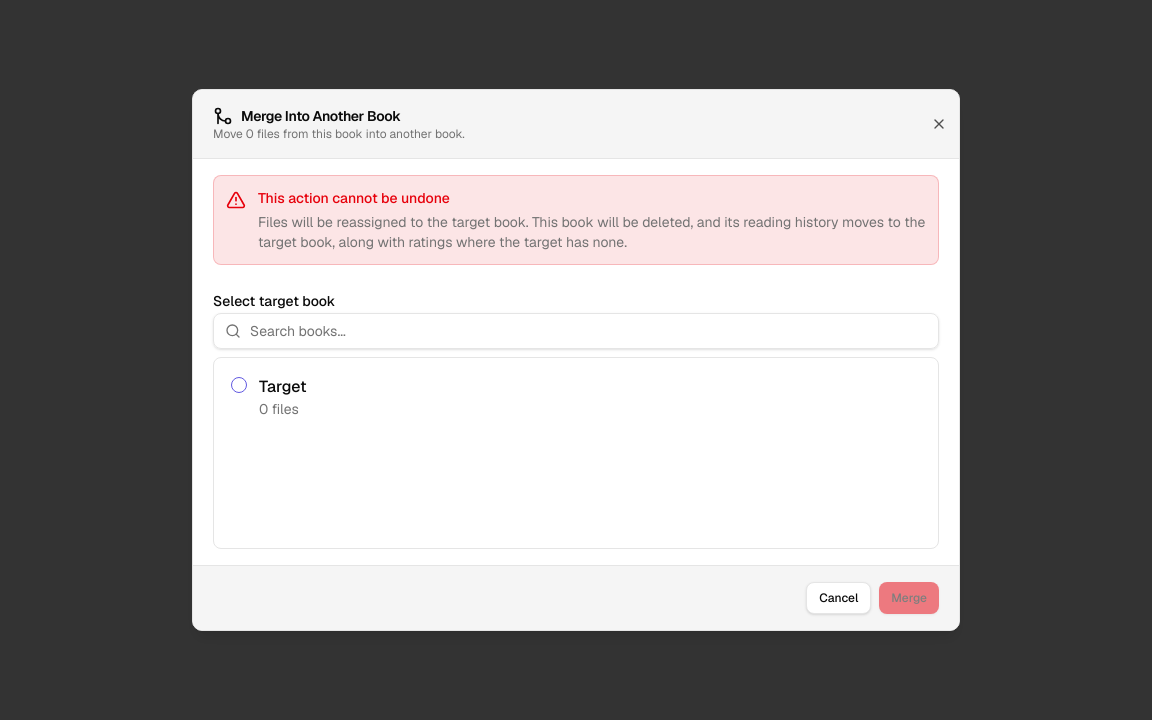
Test case: MergeIntoDialog Merge button › is disabled until a target book is selected
Check: the button "Merge" is disabled, box x1=879 y1=582 x2=939 y2=614
Click the radio button named "Target" at [239, 385], box x1=231 y1=377 x2=247 y2=393
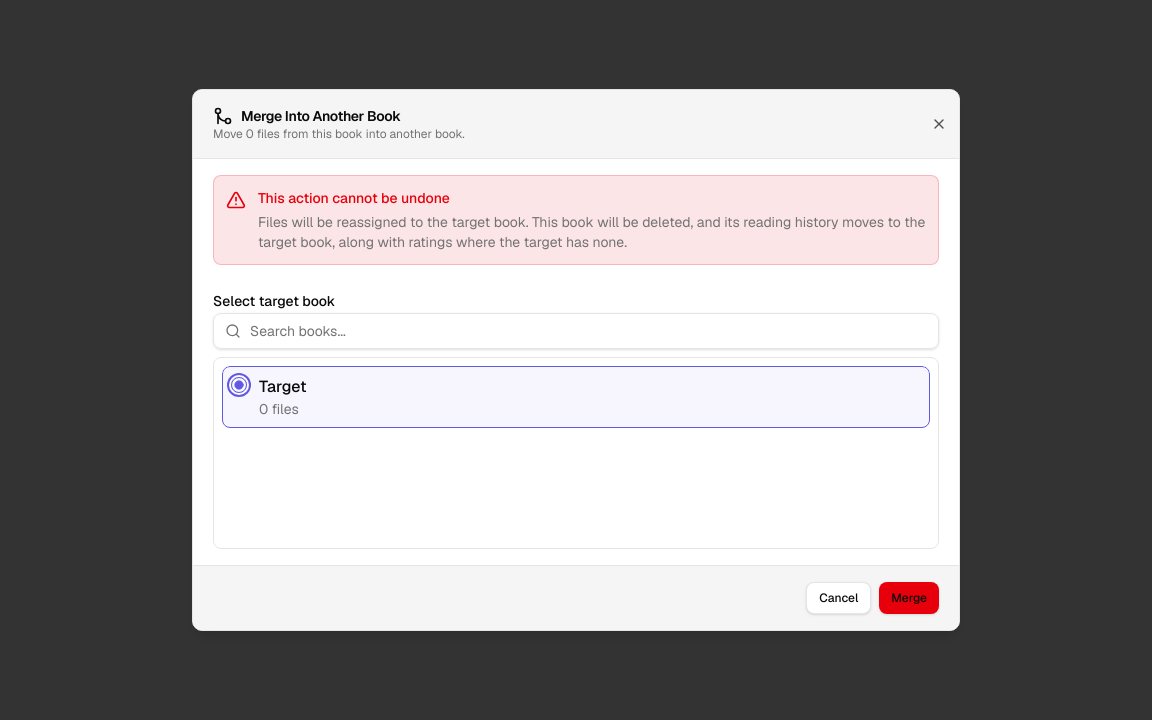
Check: the button "Merge" is enabled, box x1=879 y1=582 x2=939 y2=614
